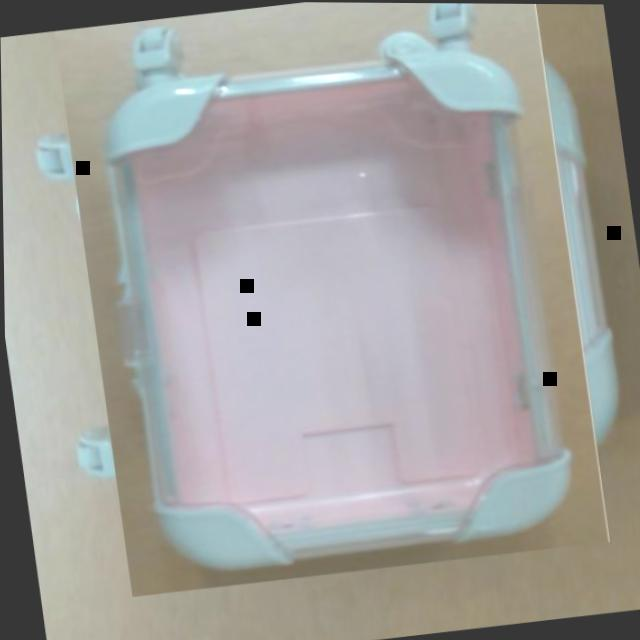luggage: (31, 0, 628, 581)
